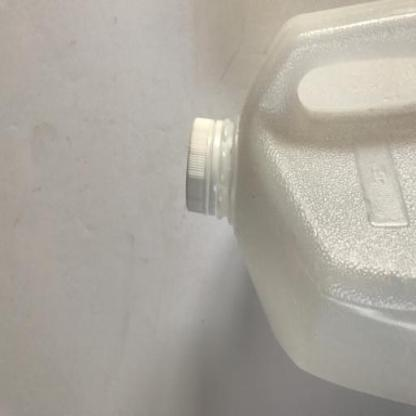trash: (186, 1, 415, 416)
